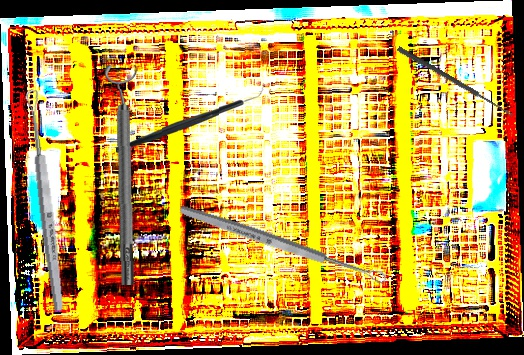Chopper: (114, 83, 267, 154)
Fixation Ring: (104, 64, 144, 286)
Surgical Spoon: (177, 202, 389, 287), (24, 87, 67, 314), (396, 46, 515, 118)
